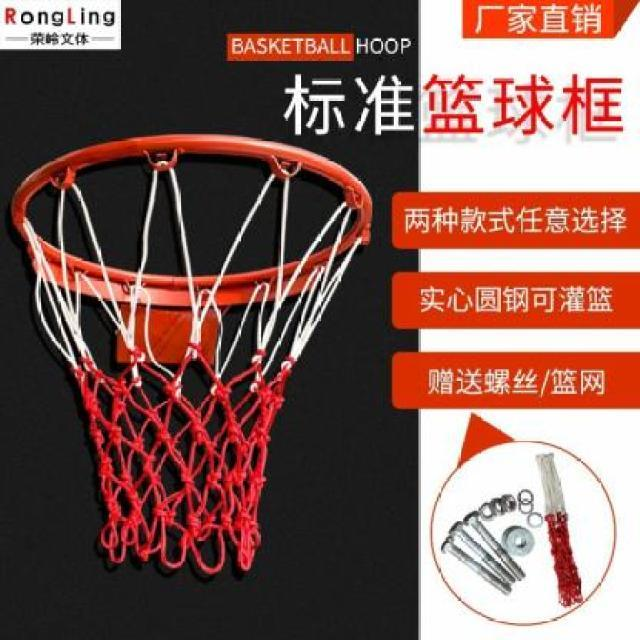rim: (19, 136, 373, 580)
